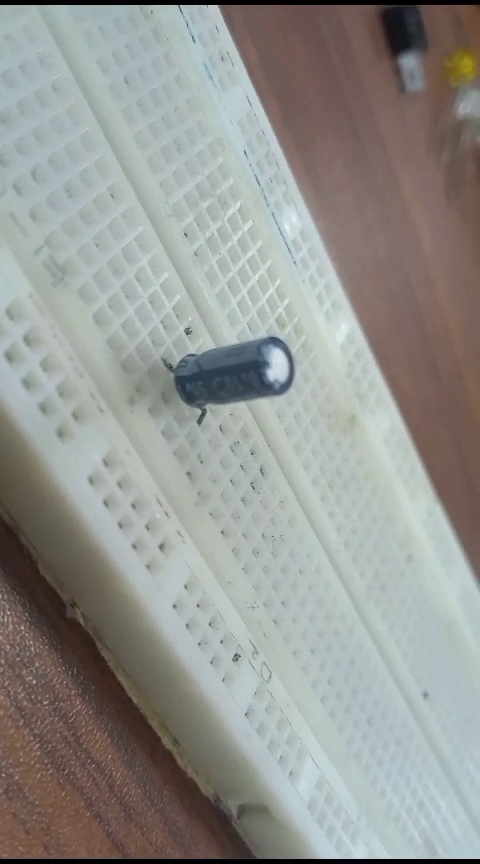capacitor: (152, 311, 302, 428)
